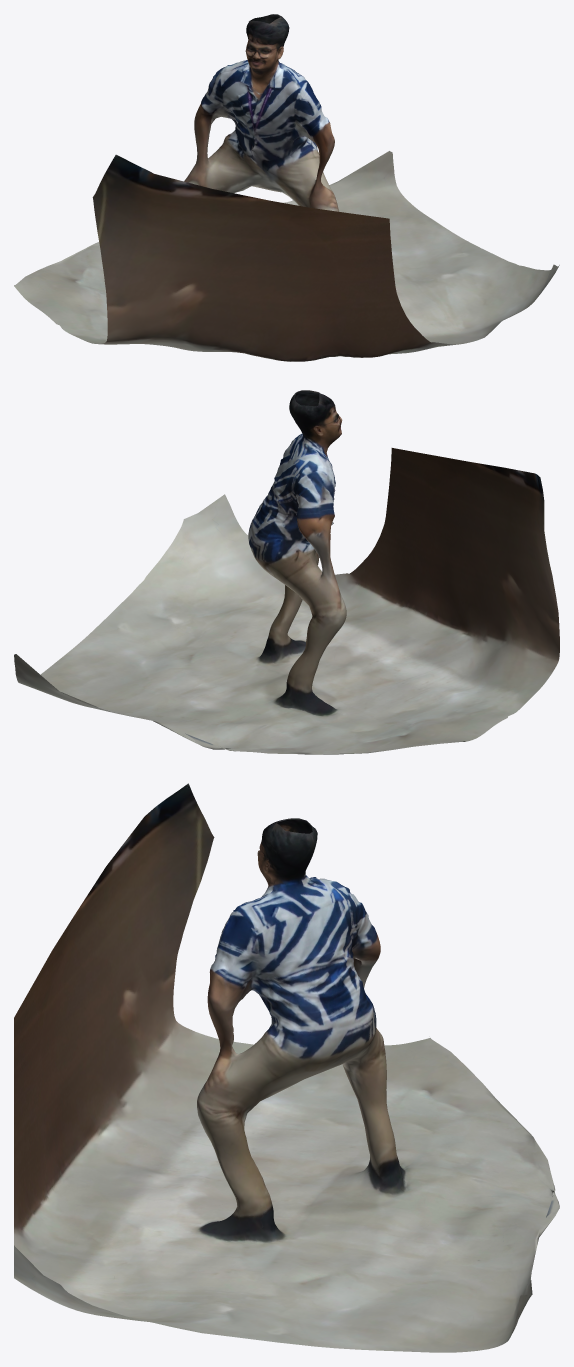
The model's file is survey_20260929173305_.glb.
The picture shows the model from 3 angles, top to bottom: view 1: azimuth 30°, elevation 25°; view 2: azimuth 150°, elevation 25°; view 3: azimuth 270°, elevation 25°; orthographic projection. The views are drawn at different scales.
Parts seen in each view (by area): view 1: 3DModel; view 2: 3DModel; view 3: 3DModel.
Boxes of the visible parts, x1,y1,x2,y2 form: 3DModel: [14, 14, 559, 361]; 3DModel: [14, 390, 559, 754]; 3DModel: [14, 783, 559, 1352].
Size of the model in its own units: 1.99 by 1.32 by 1.67.
1 material, 1 textured.
